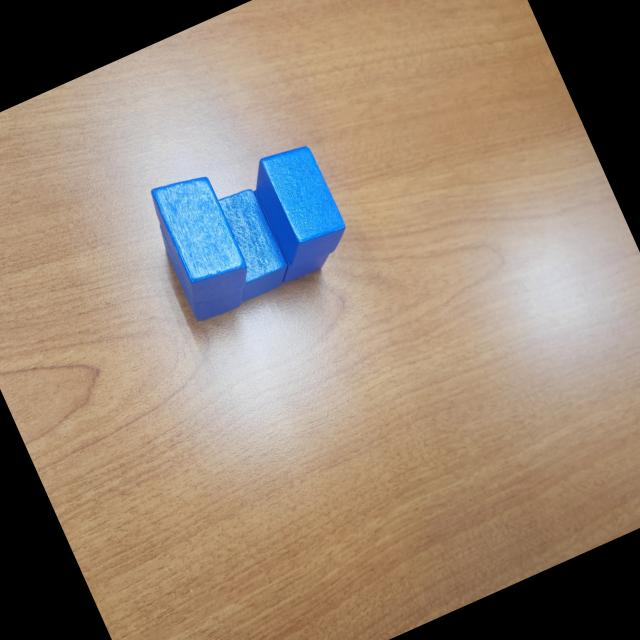blue: (145, 166, 256, 310), (244, 138, 354, 270), (152, 202, 253, 326), (200, 184, 296, 306), (242, 170, 334, 286)
